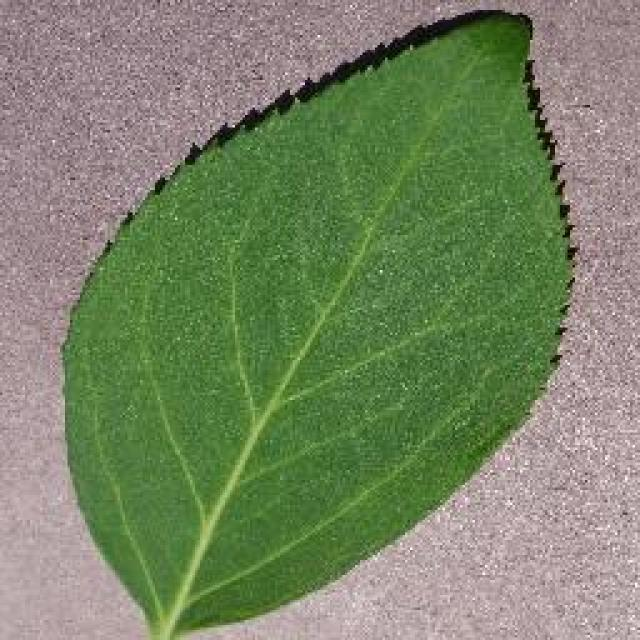Cherry___healthy: (48, 5, 588, 640)
